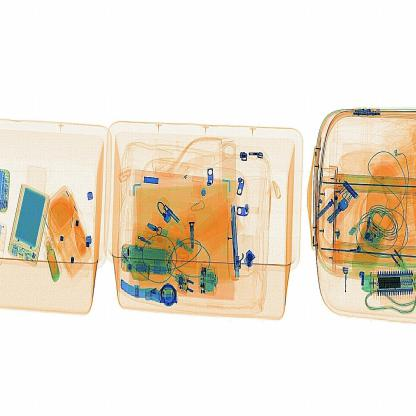pliers: (227, 206, 245, 286)
